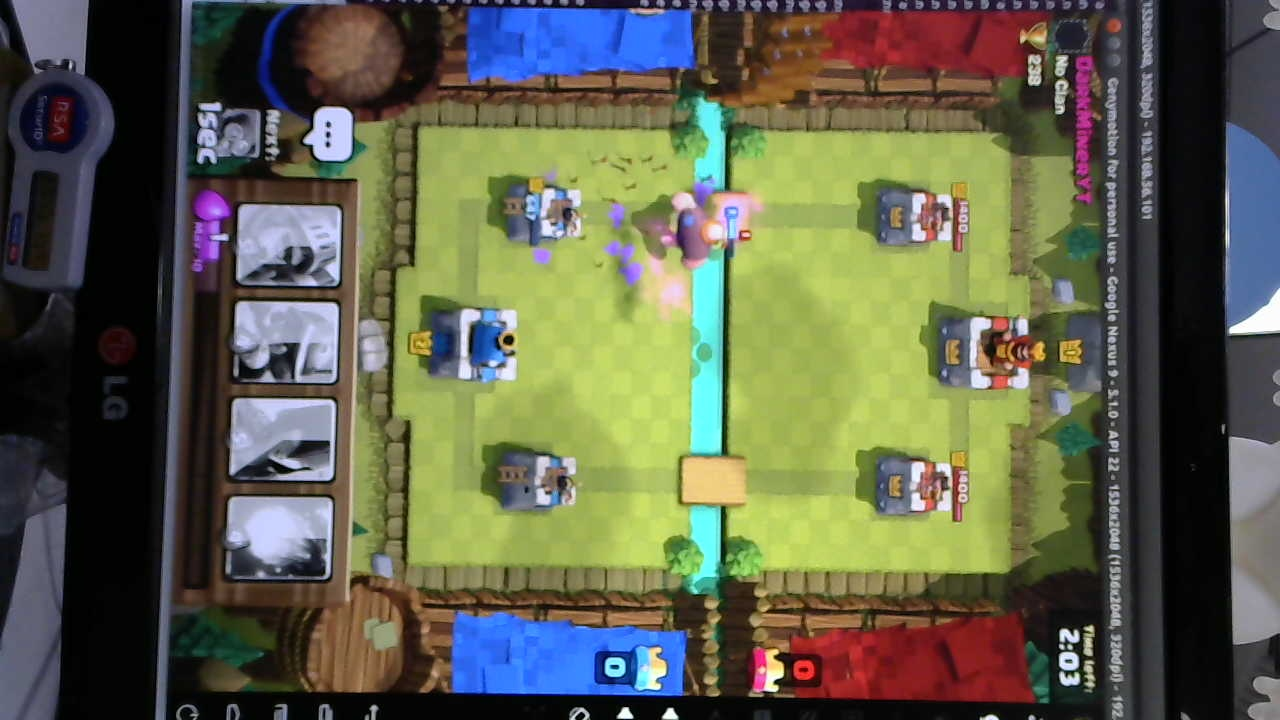arena: (498, 447, 581, 512), (507, 178, 584, 245)
earena: (870, 191, 960, 248), (872, 455, 954, 514)
eking: (928, 311, 1038, 387)
giant: (666, 193, 722, 272)
king: (425, 305, 519, 385)
